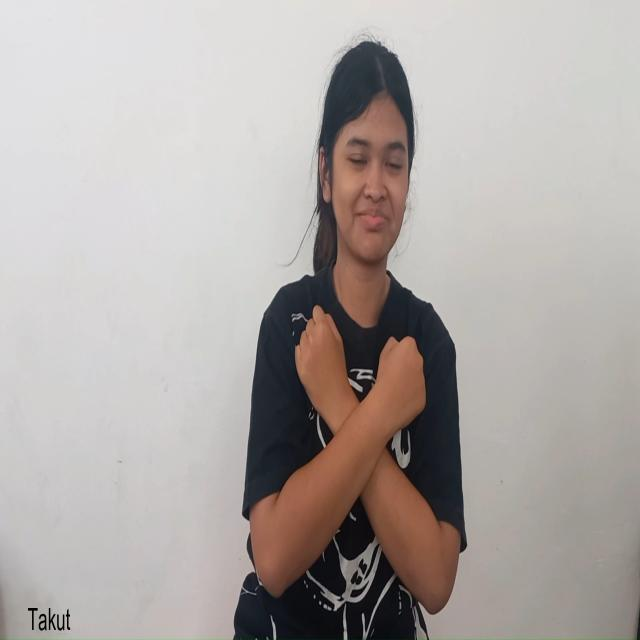Takut -BISINDO-: (283, 306, 422, 556)
